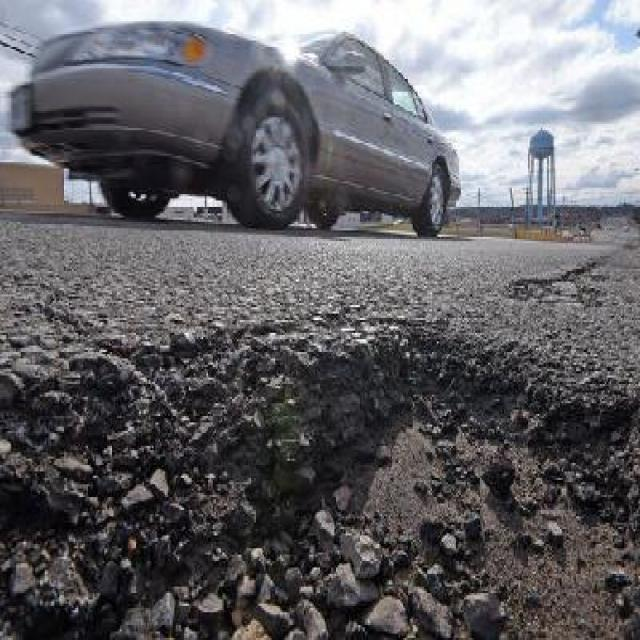Pothole: (2, 309, 640, 637), (501, 275, 564, 303)
